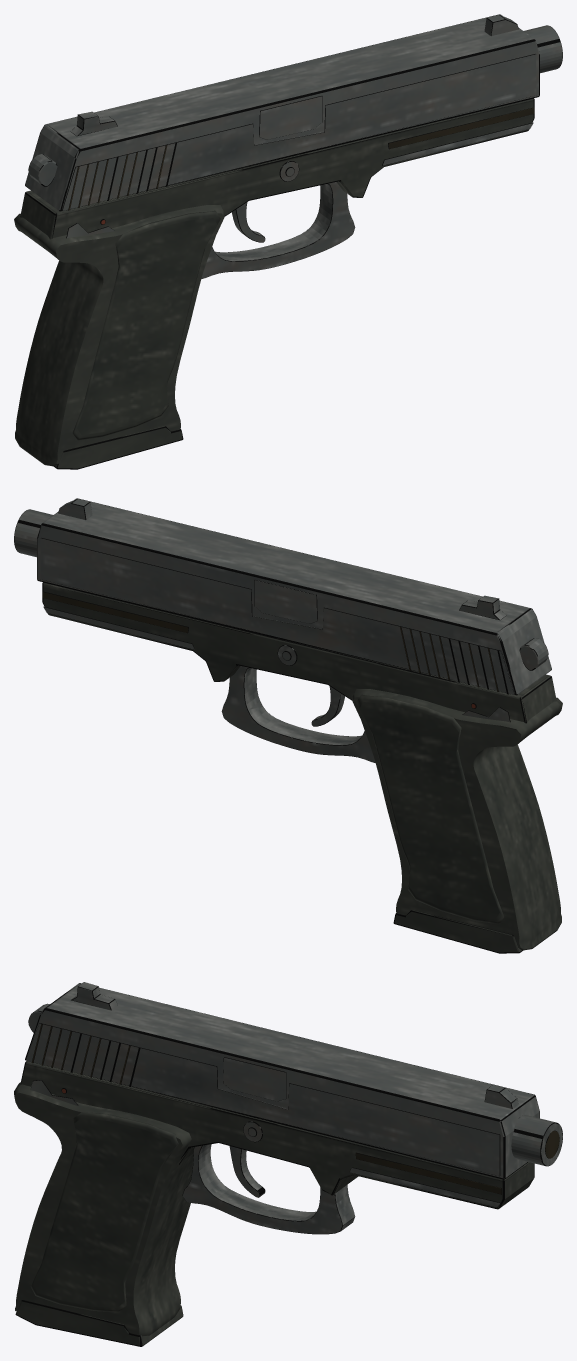
The model's file is mark23_relic.glb.
3 renders of one model, top to bottom at view 1: azimuth 30°, elevation 25°; view 2: azimuth 150°, elevation 25°; view 3: azimuth 330°, elevation 25°, orthographic.
Visible parts, largest first — view 1: mark23_relic; view 2: mark23_relic; view 3: mark23_relic.
Boxes of the visible parts, bbox=[...] form: mark23_relic: bbox=[14, 14, 562, 469]; mark23_relic: bbox=[14, 498, 562, 953]; mark23_relic: bbox=[14, 982, 562, 1346].
Size of the model in its own units: 1 by 0.6095 by 0.144.
1 material, 1 textured.
